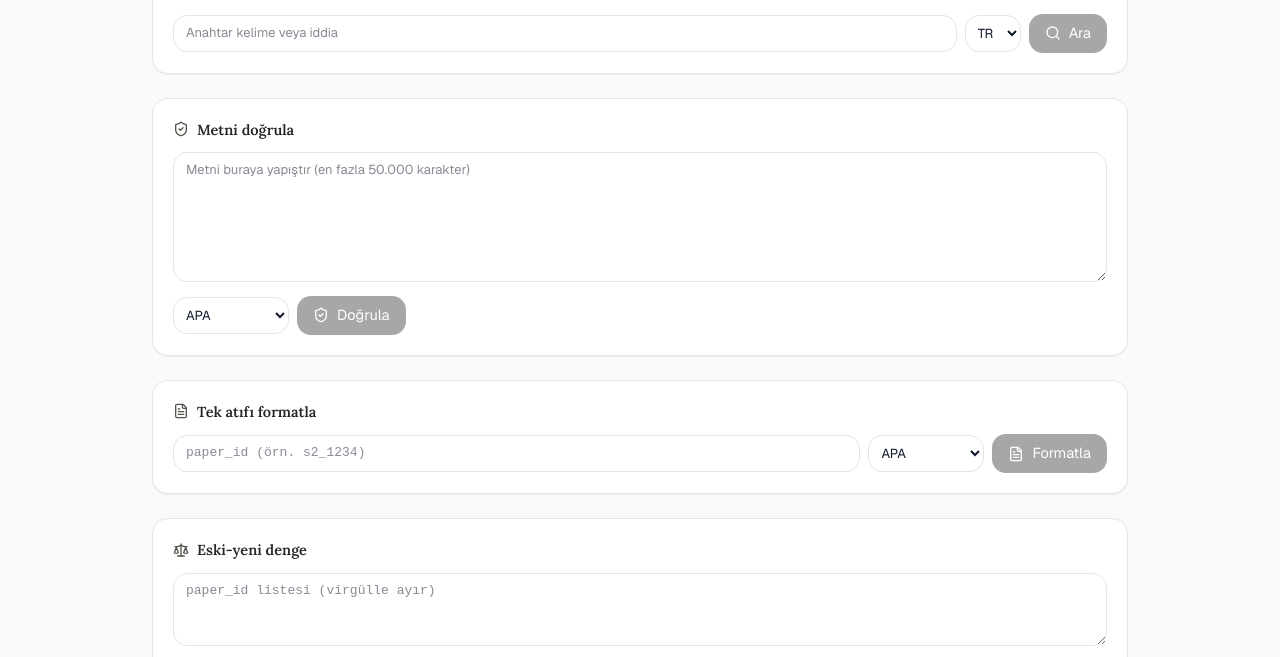
Test case: CitationQualityPage › Balance → POST /citation-balance + advice + onerilen makale render
Type "s2_1234, s2_5678" into the text box with placeholder "paper_id listesi (virgülle ayır)" at x=640, y=609, box [173,573,1107,646]
(page scrolled)
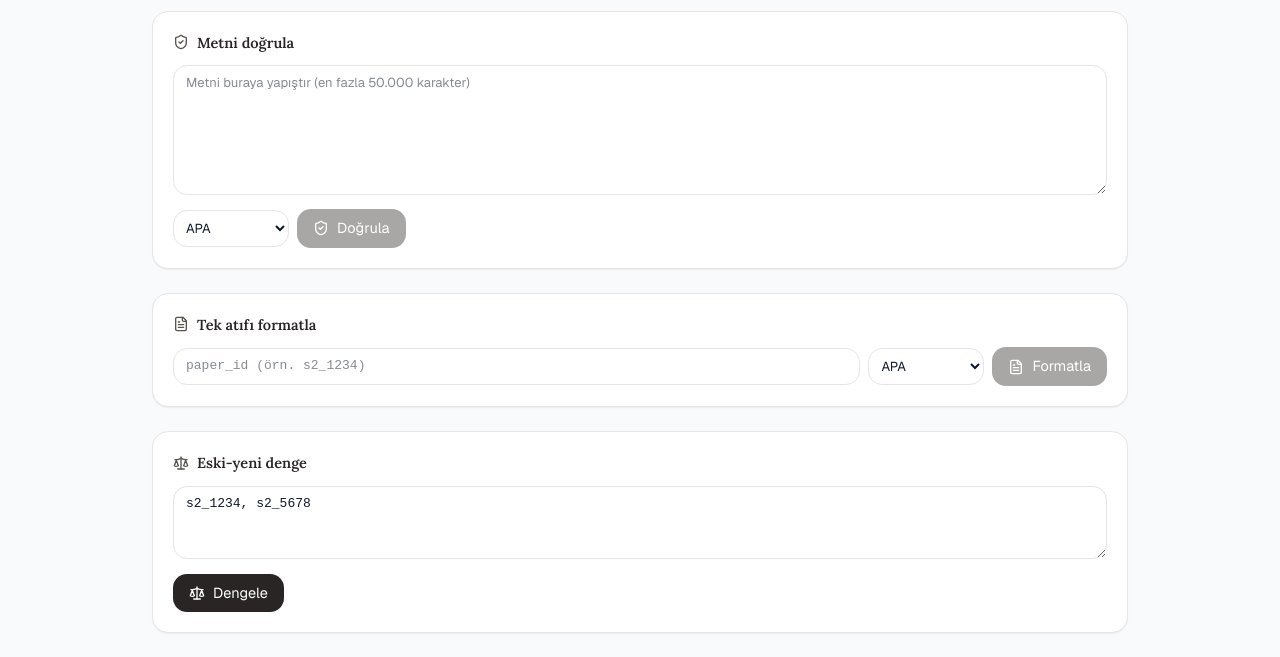
Click the button "Dengele" at x=228, y=593, box [173,574,284,612]
(page scrolled)
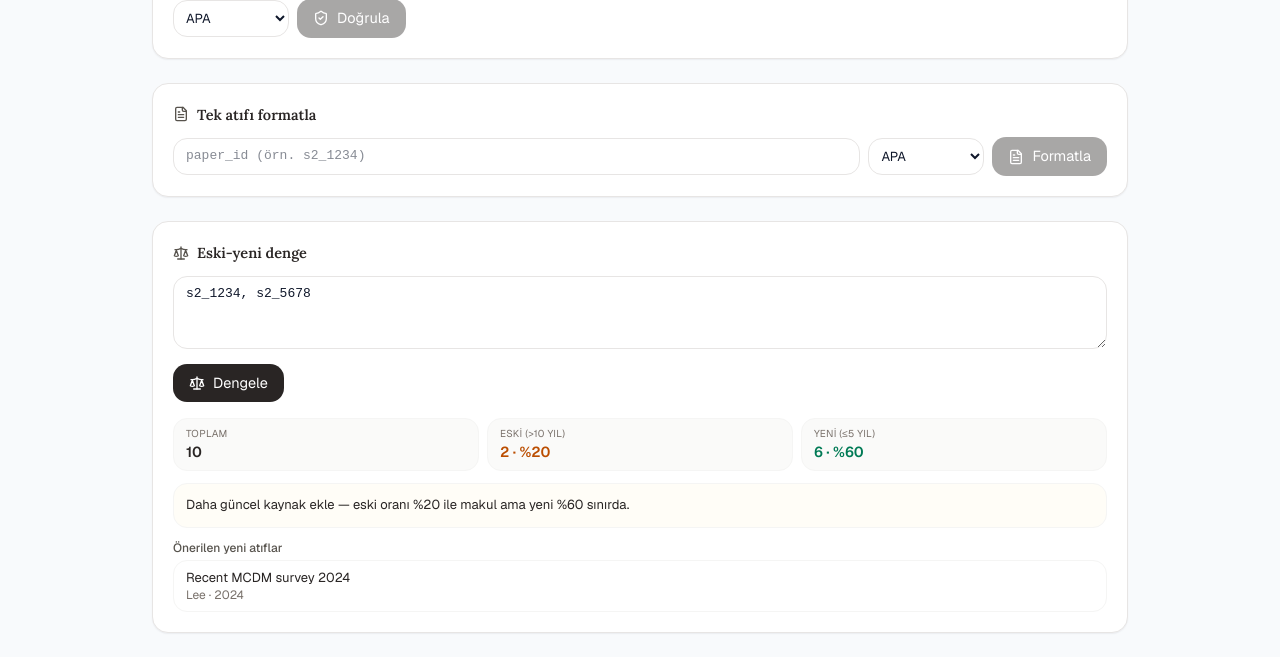
expect the text "Daha güncel kaynak ekle" is shown: met, box [186,496,629,513]
expect the text "Recent MCDM survey 2024" is shown: met, box [186,569,350,586]
